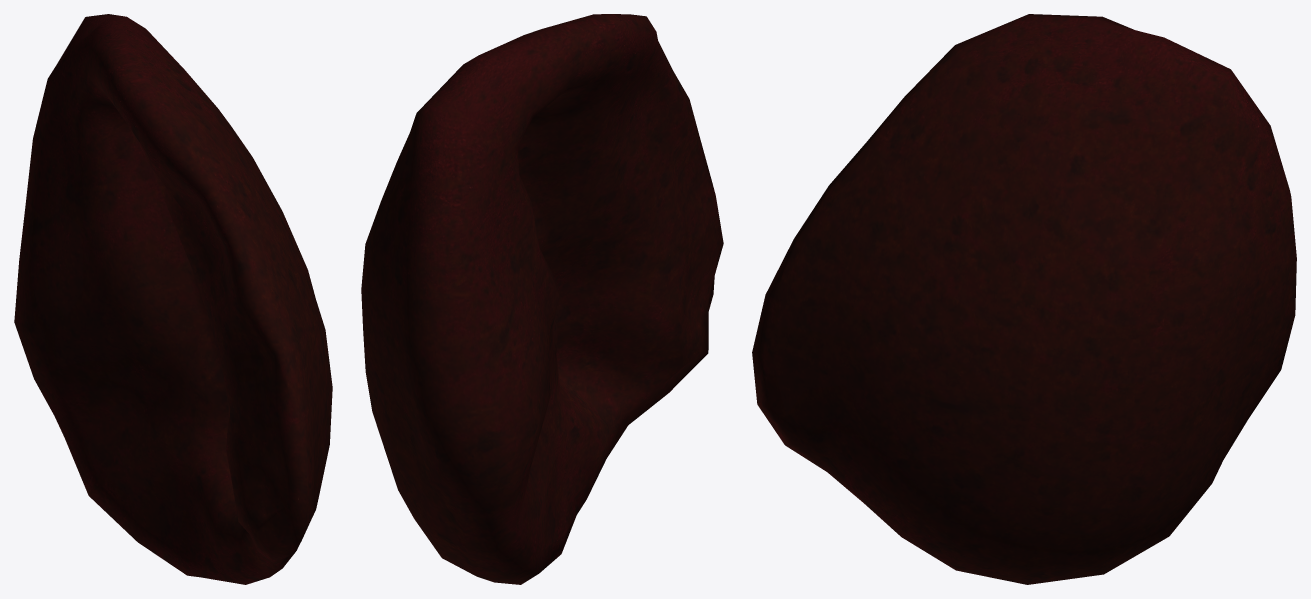
The model's file is spleen.FBX.
3 views of the same model, side by side, from view 1: azimuth 30°, elevation 25°; view 2: azimuth 150°, elevation 25°; view 3: azimuth 270°, elevation 25° (orthographic). The views are drawn at different scales.
Visible parts, largest first — view 1: Spleen; view 2: Spleen; view 3: Spleen.
Boxes of the visible parts, box(x1,y1,x2,y2) form: Spleen: box(14, 14, 332, 584); Spleen: box(361, 14, 723, 584); Spleen: box(752, 14, 1296, 584).
Size of the model in its own units: 21.14 by 50.4 by 54.39.
